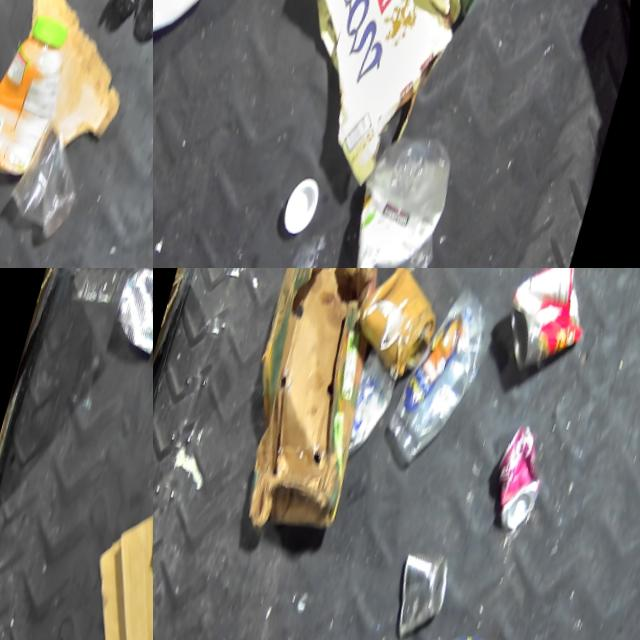can: (341, 268, 451, 394), (491, 268, 605, 389), (482, 424, 558, 543), (386, 545, 458, 640), (103, 268, 153, 365)
